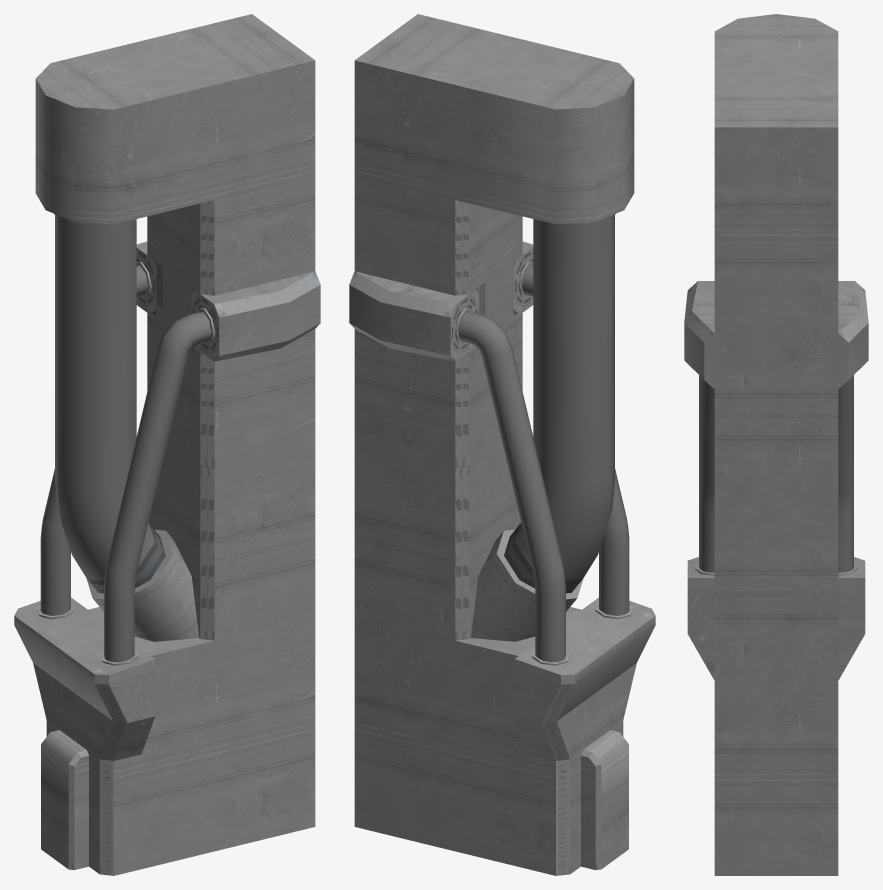
File: SM_PillarComp5.fbx
3 renders of one model, left to right at view 1: azimuth 30°, elevation 25°; view 2: azimuth 150°, elevation 25°; view 3: azimuth 270°, elevation 25°, orthographic. The views are drawn at different scales.
Parts seen in each view (by area): view 1: SM_PillarComp5_LOD0; view 2: SM_PillarComp5_LOD0; view 3: SM_PillarComp5_LOD0.
Boxes of the visible parts, box(x1,y1,x2,y2) form: SM_PillarComp5_LOD0: box(14, 14, 320, 875); SM_PillarComp5_LOD0: box(349, 14, 655, 875); SM_PillarComp5_LOD0: box(684, 14, 868, 875).
Size of the model in its own units: 130 by 89.38 by 400.
Materials: 3 (3 with a texture image).
